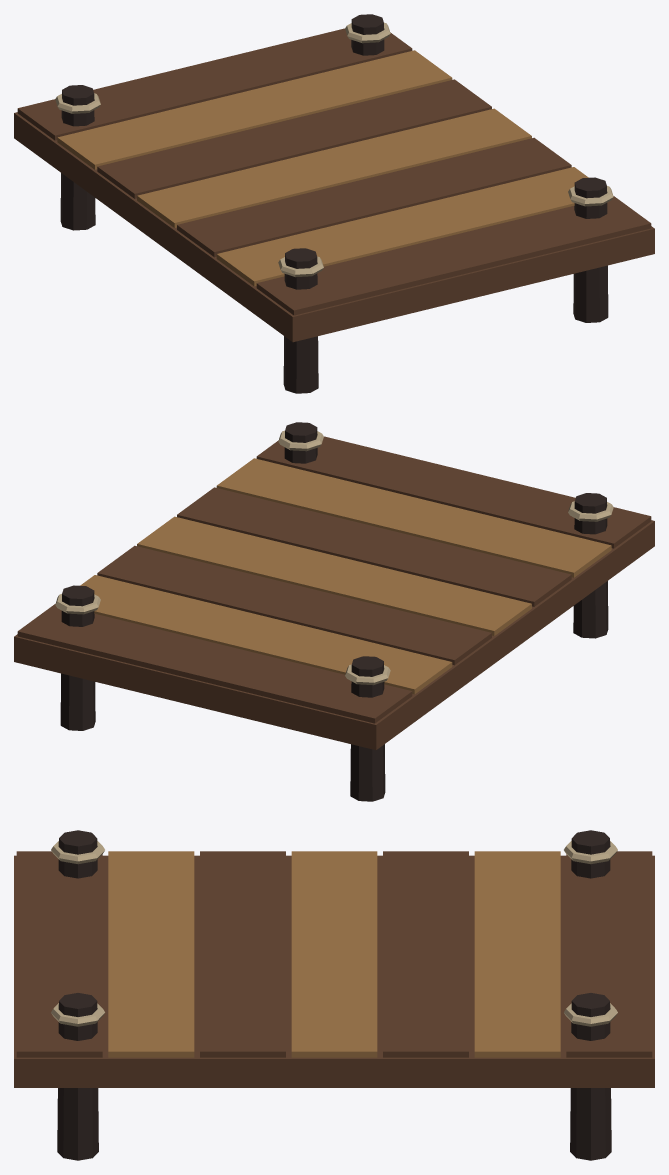
The model's file is PirateCove_DockStraight_Standard.glb.
The picture shows the model from 3 angles, top to bottom: view 1: azimuth 30°, elevation 25°; view 2: azimuth 150°, elevation 25°; view 3: azimuth 270°, elevation 25°; orthographic projection. The views are drawn at different scales.
Parts seen in each view (by area): view 1: PirateCove_DockStraight_Standard; view 2: PirateCove_DockStraight_Standard; view 3: PirateCove_DockStraight_Standard.
Part boxes in pixels (x1,y1,x2,y2): PirateCove_DockStraight_Standard: (14, 14, 654, 393); PirateCove_DockStraight_Standard: (14, 422, 654, 801); PirateCove_DockStraight_Standard: (14, 830, 654, 1160).
Size of the model in its own units: 3 by 1.04 by 4.
